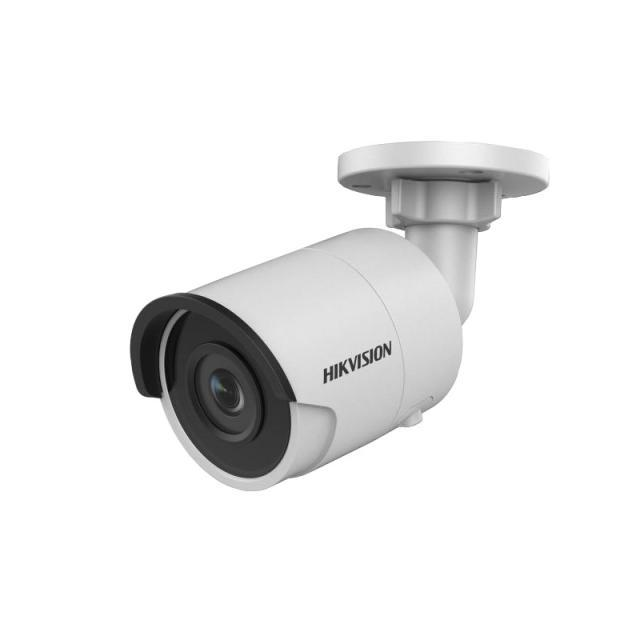hidden camera: (122, 306, 334, 492)
